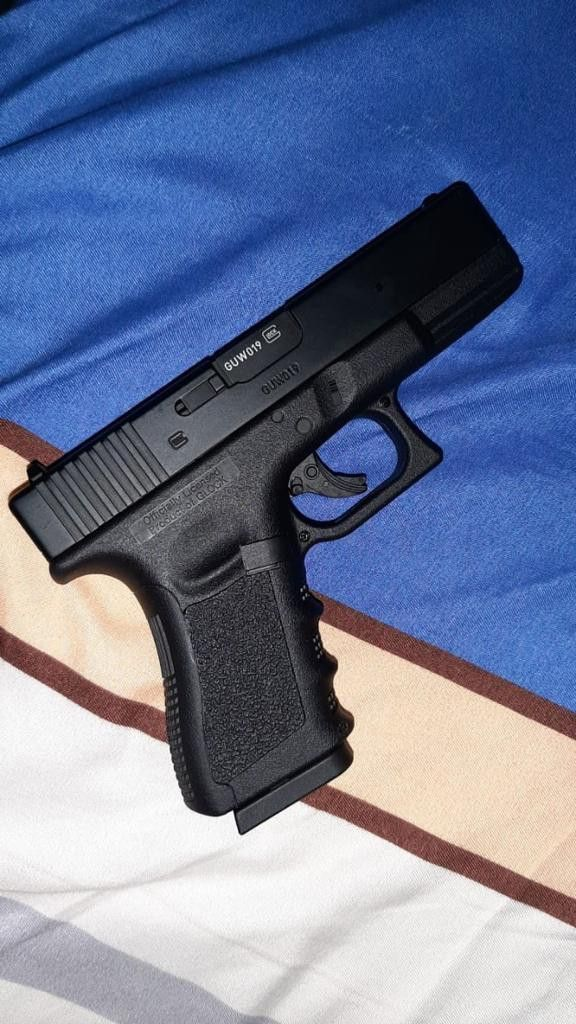gun: (6, 168, 538, 841)
